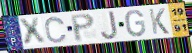C: (44, 16, 68, 44)
G: (124, 9, 147, 38)
J: (100, 10, 119, 41)
K: (147, 8, 170, 36)
P: (69, 12, 96, 43)
X: (17, 16, 48, 48)
